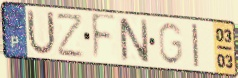F: (90, 11, 118, 63)
G: (157, 21, 184, 67)
I: (189, 22, 201, 69)
N: (117, 17, 151, 65)
U: (25, 7, 58, 58)
Z: (55, 13, 85, 59)
